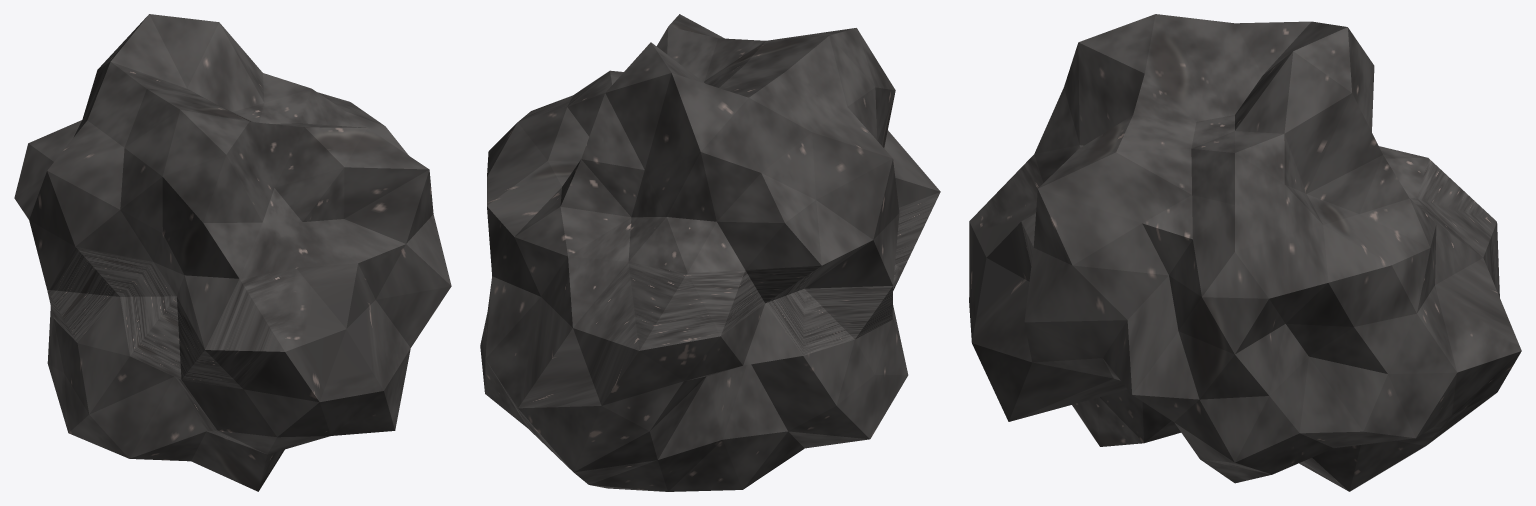
The model's file is planet_01_c.glb.
3 views of the same model, side by side, from view 1: azimuth 30°, elevation 25°; view 2: azimuth 150°, elevation 25°; view 3: azimuth 270°, elevation 25° (orthographic). The views are drawn at different scales.
Parts seen in each view (by area): view 1: Body; view 2: Body; view 3: Body.
Boxes of the visible parts, bbox=[...] form: Body: bbox=[14, 14, 451, 491]; Body: bbox=[480, 14, 940, 491]; Body: bbox=[969, 14, 1521, 491].
Size of the model in its own units: 1.51 by 1.57 by 1.82.
1 material, 1 textured.
